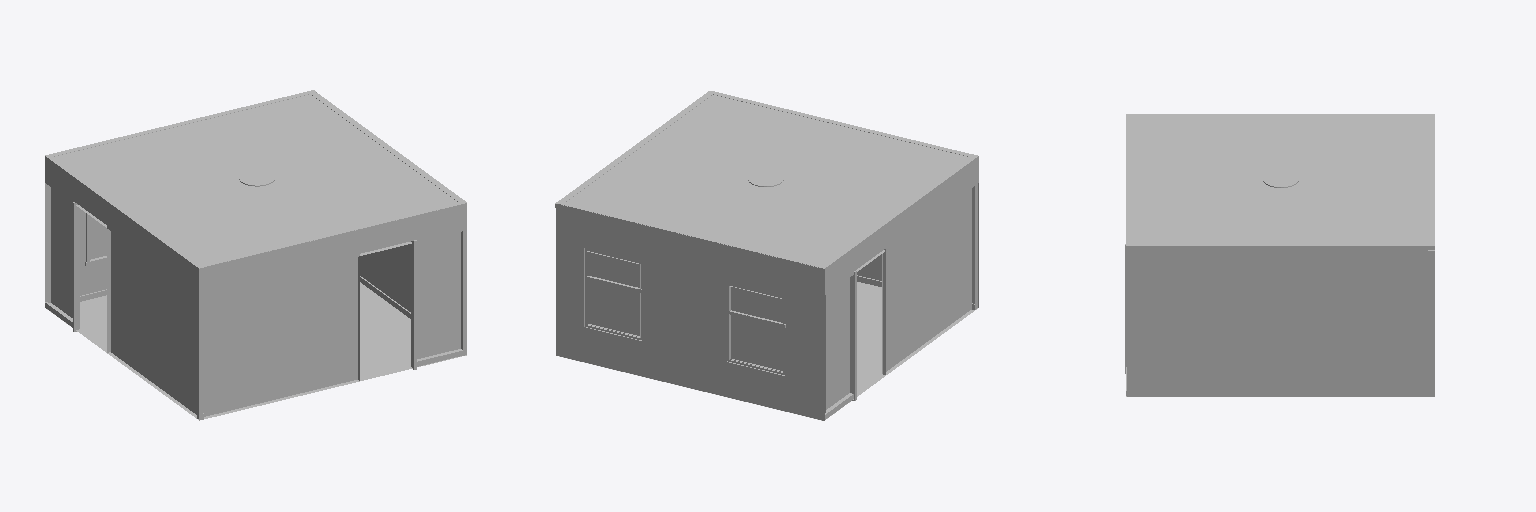
Rendered from room2updated.obj.
3 renders of one model, left to right at view 1: azimuth 30°, elevation 25°; view 2: azimuth 150°, elevation 25°; view 3: azimuth 270°, elevation 25°, orthographic.
Parts seen in each view (by area): view 1: Plane.005_Plane.006, Cube.041_Cube.002, Cube.048_Cube.042, Plane.003_Plane.004, Cube.040_Cube.001, Cube.042_Cube.005, Cube.054_Cube.039, Cube.051_Cube.044, Cube.045_Cube.031; view 2: Cube.040_Cube.001, Plane.005_Plane.006, Cube.048_Cube.042, Plane.003_Plane.004, Cube.051_Cube.044, Cube.041_Cube.002, Cube.054_Cube.039, Cube.045_Cube.031, Cube.052_Cube.045, Cube.042_Cube.005; view 3: Cube.042_Cube.005, Plane.005_Plane.006, Cube.045_Cube.031, Cube.040_Cube.001, Cube.054_Cube.039, Cube.051_Cube.044.
Boxes of the visible parts, box(x1,y1,x2,y2) form: Plane.005_Plane.006: box(55, 94, 465, 264); Cube.041_Cube.002: box(197, 208, 466, 418); Cube.048_Cube.042: box(45, 161, 203, 420); Plane.003_Plane.004: box(80, 282, 466, 418); Cube.040_Cube.001: box(45, 90, 316, 302); Cube.042_Cube.005: box(360, 230, 466, 355); Cube.054_Cube.039: box(198, 202, 466, 271); Cube.051_Cube.044: box(45, 156, 204, 273); Cube.045_Cube.031: box(311, 93, 466, 202); Cube.040_Cube.001: box(555, 201, 826, 420); Plane.005_Plane.006: box(555, 91, 968, 267); Cube.048_Cube.042: box(824, 161, 978, 420); Plane.003_Plane.004: box(559, 282, 881, 420); Cube.051_Cube.044: box(823, 154, 978, 273); Cube.041_Cube.002: box(857, 184, 977, 309); Cube.054_Cube.039: box(710, 91, 976, 157); Cube.045_Cube.031: box(556, 91, 714, 204); Cube.052_Cube.045: box(850, 271, 856, 400); Cube.042_Cube.005: box(556, 204, 561, 356); Cube.042_Cube.005: box(1127, 250, 1434, 396); Plane.005_Plane.006: box(1126, 117, 1434, 245); Cube.045_Cube.031: box(1126, 242, 1434, 249); Cube.040_Cube.001: box(1428, 114, 1434, 250); Cube.054_Cube.039: box(1126, 114, 1132, 244); Cube.051_Cube.044: box(1133, 114, 1427, 116).
Size of the model in its own units: 10.11 by 5.52 by 10.04.